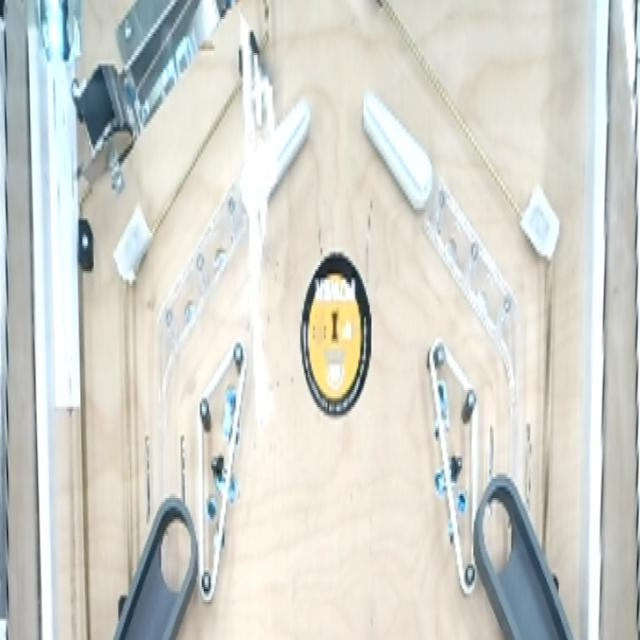ball: (240, 65, 278, 154)
flipper-left: (361, 85, 437, 232)
flipper-right: (235, 92, 313, 224)
